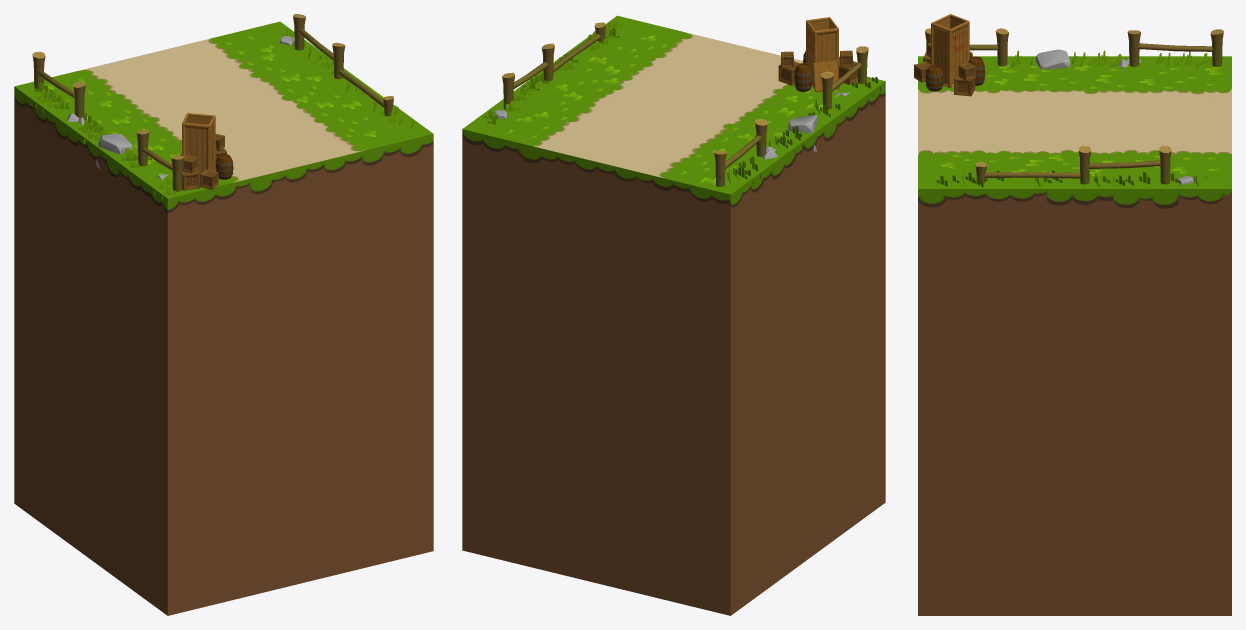
File: Plataforma Cajas Der.fbx
The picture shows the model from 3 angles, left to right: view 1: azimuth 30°, elevation 25°; view 2: azimuth 150°, elevation 25°; view 3: azimuth 270°, elevation 25°; orthographic projection. The views are drawn at different scales.
Parts seen in each view (by area): view 1: Plataforma 1.007, Cube.364; view 2: Plataforma 1.007, Cube.364; view 3: Plataforma 1.007, Cube.364, Cube.277, Cylinder.039, Cylinder.041, Cylinder.040, Cylinder.132.
Boxes of the visible parts, x1,y1,x2,y2 form: Plataforma 1.007: (14, 21, 433, 615); Cube.364: (182, 113, 215, 173); Plataforma 1.007: (462, 15, 885, 615); Cube.364: (806, 17, 838, 87); Plataforma 1.007: (918, 56, 1231, 615); Cube.364: (931, 14, 969, 87); Cube.277: (1035, 49, 1070, 69); Cylinder.039: (984, 172, 1080, 178); Cylinder.041: (1138, 43, 1213, 51); Cylinder.040: (1088, 160, 1160, 168); Cylinder.132: (925, 65, 943, 91).
Bounding box in the file's own units: 1014 × 1703 × 1013.
